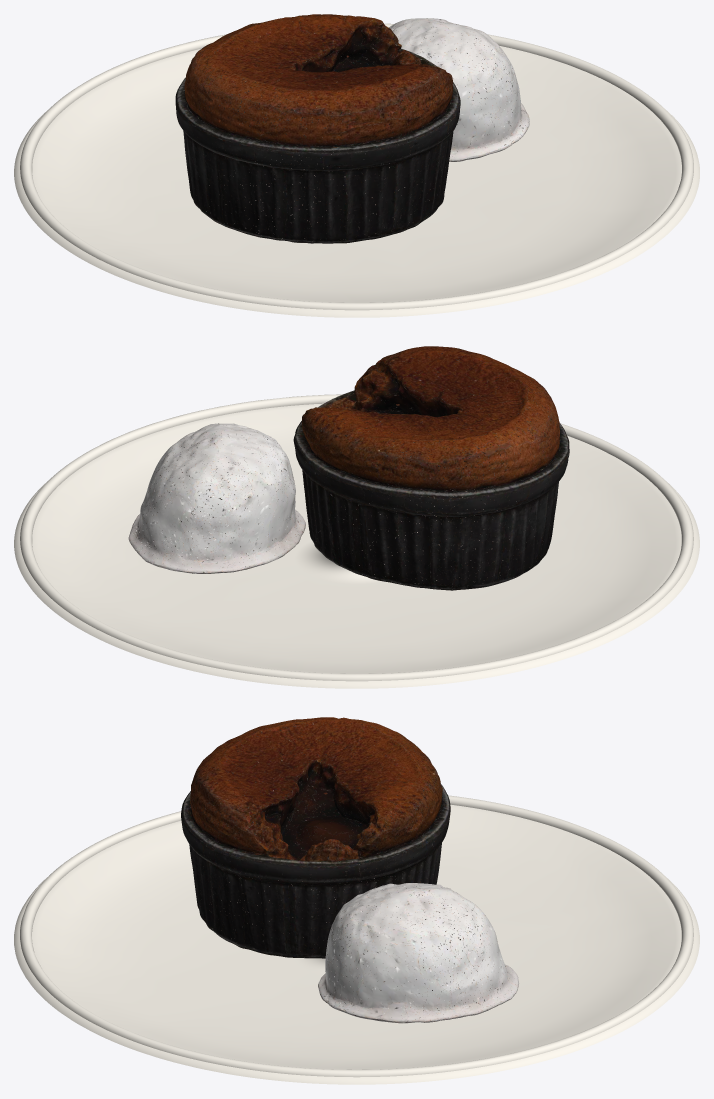
File: souffle-chocolat-meshopt-111ef8b7.glb
3 renders of one model, top to bottom at view 1: azimuth 30°, elevation 25°; view 2: azimuth 150°, elevation 25°; view 3: azimuth 270°, elevation 25°, orthographic.
Visible parts, largest first — view 1: Assiette céramique réaliste, geometry_0; view 2: Assiette céramique réaliste, geometry_0; view 3: Assiette céramique réaliste, geometry_0.
Part boxes in pixels (x1,y1,x2,y2): Assiette céramique réaliste: (14,23,699,317); geometry_0: (175,14,529,243); Assiette céramique réaliste: (14,394,699,688); geometry_0: (128,346,569,590); Assiette céramique réaliste: (14,795,699,1084); geometry_0: (181,717,518,1023).
Bounding box in the file's own units: 1.71 × 0.4539 × 1.71.
2 materials, 1 textured.
